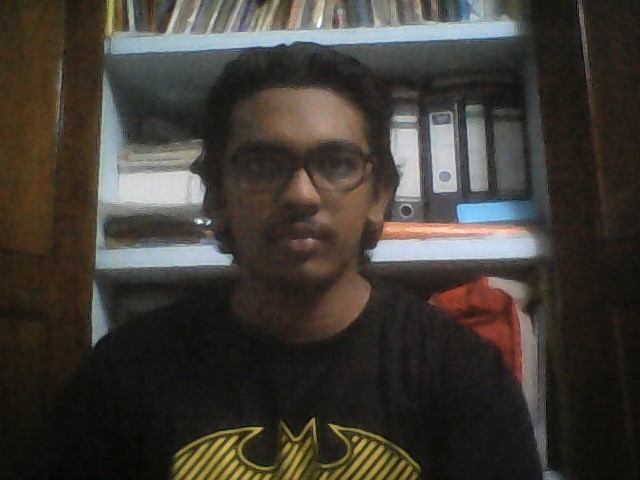person: (41, 42, 522, 480)
